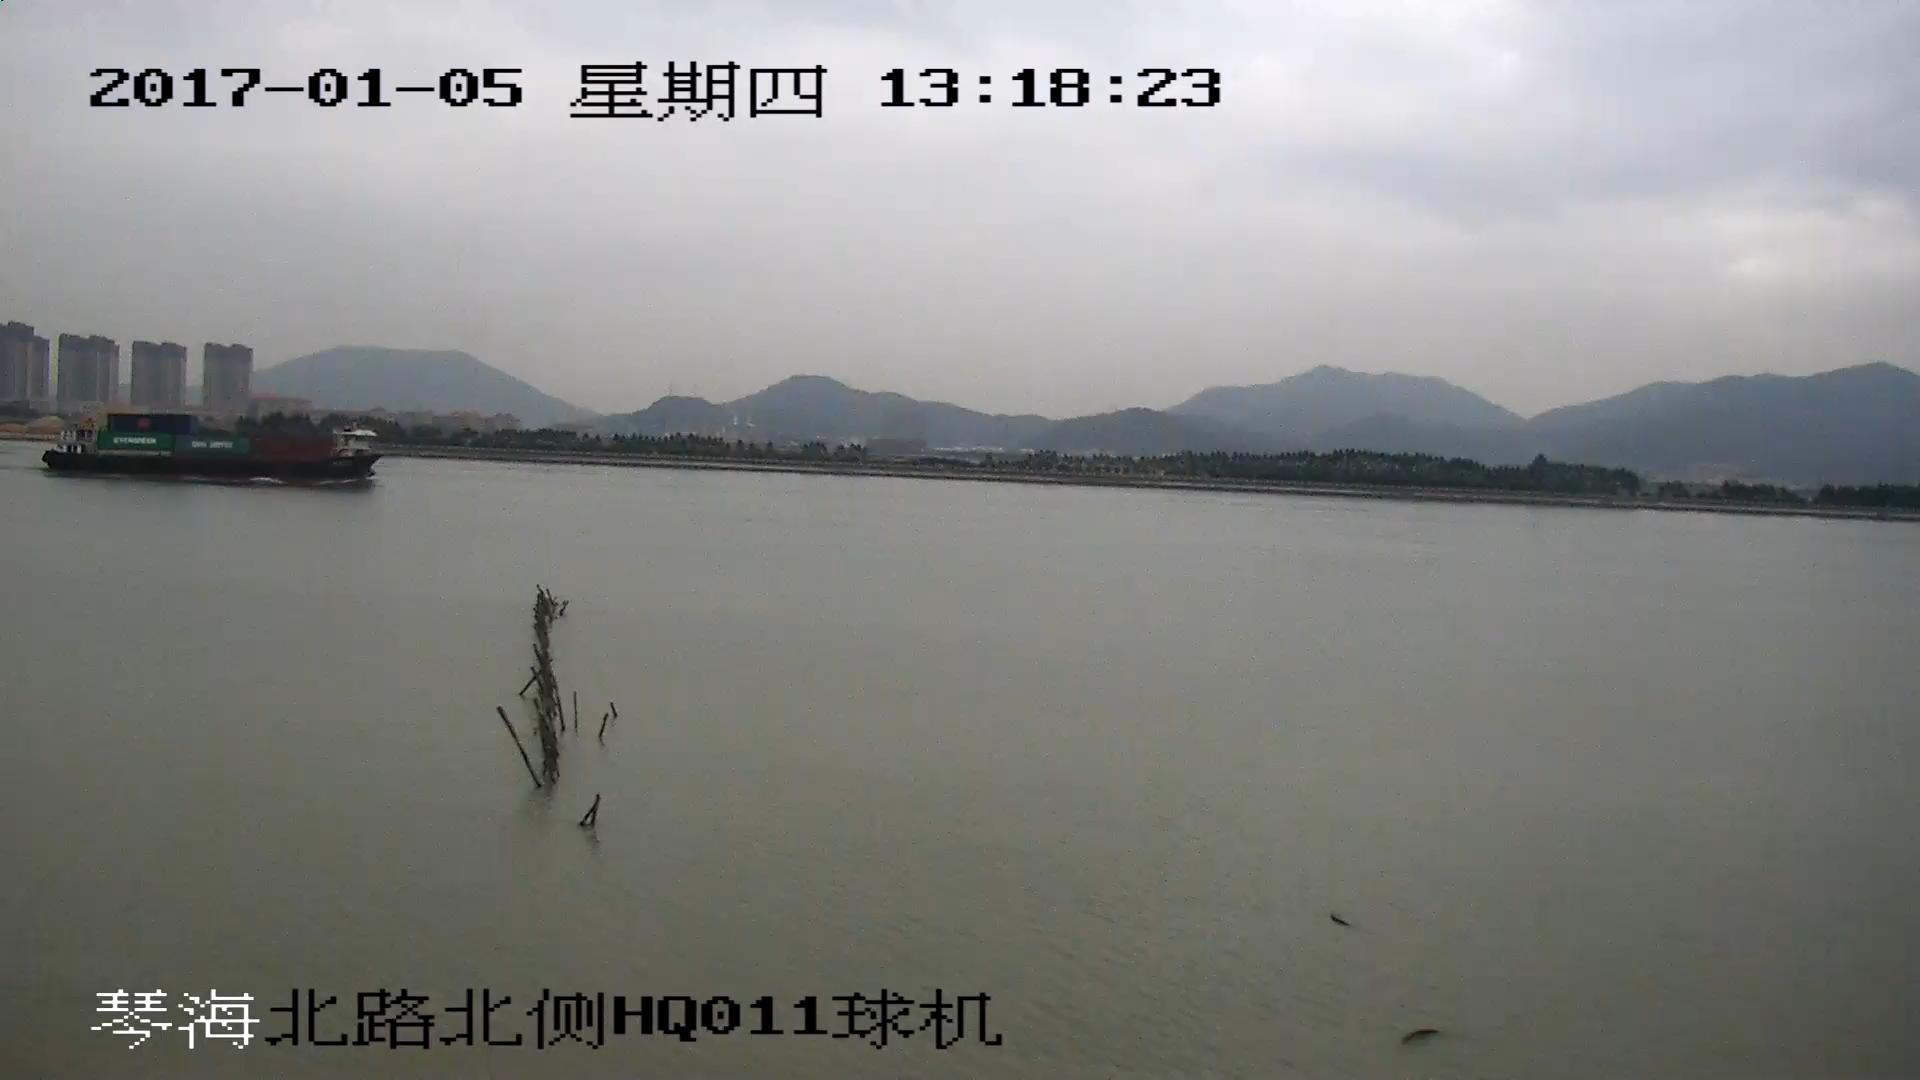container ship: (45, 411, 383, 484)
